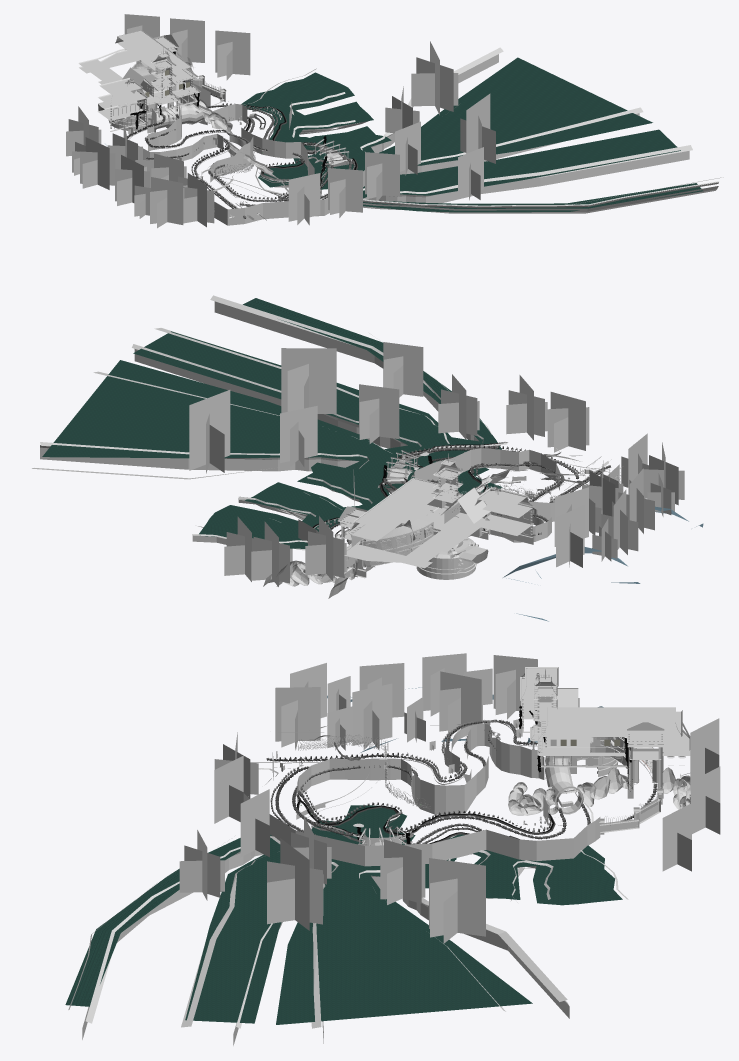
File: track.glb
The picture shows the model from 3 angles, top to bottom: view 1: azimuth 30°, elevation 25°; view 2: azimuth 150°, elevation 25°; view 3: azimuth 270°, elevation 25°; orthographic projection. The views are drawn at different scales.
Visible parts, largest first — view 1: mesh_37, mesh_24, mesh_5, mesh_38, mesh_27, mesh_7, mesh_15, mesh_25, mesh_30, mesh_22, mesh_14, mesh_32 (+4 smaller); view 2: mesh_24, mesh_37, mesh_5, mesh_27, mesh_7, mesh_25, mesh_38, mesh_32, mesh_15, mesh_14, mesh_4, mesh_11 (+1 smaller); view 3: mesh_37, mesh_24, mesh_38, mesh_27, mesh_7, mesh_5, mesh_15, mesh_25, mesh_30, mesh_22, mesh_14, mesh_16 (+4 smaller).
Boxes of the visible parts, <box> form: mesh_37: <box>241,57,703,212</box>; mesh_24: <box>66,14,495,228</box>; mesh_5: <box>147,54,718,218</box>; mesh_38: <box>138,83,364,225</box>; mesh_27: <box>78,30,200,120</box>; mesh_7: <box>105,47,723,220</box>; mesh_15: <box>127,93,354,218</box>; mesh_25: <box>80,51,349,202</box>; mesh_30: <box>110,38,347,220</box>; mesh_22: <box>109,93,256,139</box>; mesh_14: <box>110,60,241,128</box>; mesh_32: <box>98,102,347,165</box>; mesh_24: <box>189,342,684,586</box>; mesh_37: <box>42,298,502,548</box>; mesh_5: <box>40,301,529,598</box>; mesh_27: <box>346,459,533,565</box>; mesh_7: <box>32,295,703,621</box>; mesh_25: <box>344,448,577,568</box>; mesh_38: <box>298,448,619,544</box>; mesh_32: <box>387,461,488,579</box>; mesh_15: <box>327,444,610,543</box>; mesh_14: <box>346,474,532,578</box>; mesh_4: <box>347,460,533,547</box>; mesh_11: <box>338,494,554,572</box>; mesh_37: <box>65,805,622,1024</box>; mesh_24: <box>179,653,720,943</box>; mesh_38: <box>243,723,600,866</box>; mesh_27: <box>520,667,690,755</box>; mesh_7: <box>68,687,690,1028</box>; mesh_5: <box>82,731,690,1045</box>; mesh_15: <box>266,719,657,844</box>; mesh_25: <box>300,678,690,845</box>; mesh_30: <box>250,719,663,845</box>; mesh_22: <box>493,732,617,814</box>; mesh_14: <box>522,677,662,834</box>; mesh_16: <box>296,767,597,843</box>.
Bounding box in the file's own units: 969 × 180 × 854.
Materials: 1 (1 with a texture image).
